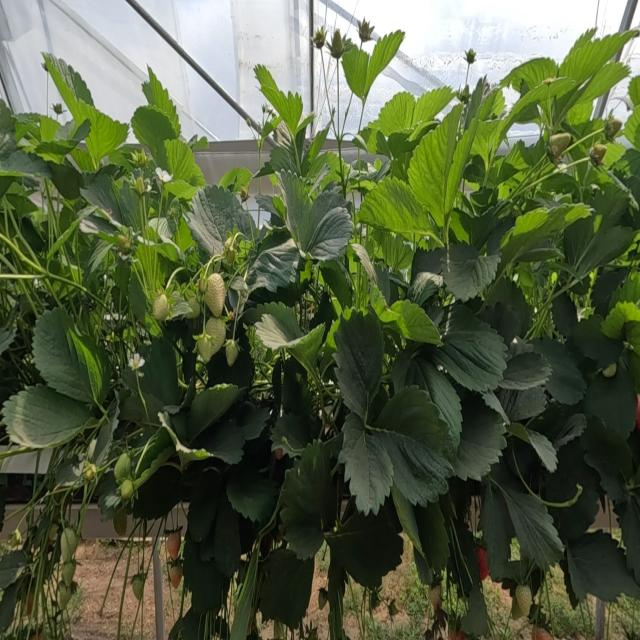Flowers: (129, 353, 145, 369), (156, 168, 172, 183)
Leaves: (375, 385, 454, 506), (424, 303, 507, 395), (392, 350, 462, 447), (408, 104, 462, 229), (280, 441, 337, 559), (499, 480, 563, 569), (33, 309, 92, 404), (2, 386, 90, 448), (340, 415, 393, 515), (567, 530, 640, 601), (335, 311, 383, 415), (360, 176, 435, 241), (188, 185, 257, 255), (453, 395, 506, 480), (260, 548, 314, 629), (581, 418, 632, 502), (255, 313, 324, 370), (183, 530, 229, 613), (534, 337, 586, 405), (445, 113, 479, 217), (584, 371, 636, 439), (441, 242, 500, 301), (480, 482, 514, 581), (140, 338, 181, 412), (131, 105, 177, 168), (261, 77, 310, 136), (245, 239, 299, 292), (569, 316, 623, 368), (227, 471, 278, 524), (278, 169, 311, 248), (188, 473, 224, 542), (307, 207, 353, 261), (364, 30, 405, 90), (498, 345, 551, 390), (194, 418, 245, 464), (148, 66, 181, 136), (213, 494, 241, 576), (81, 175, 122, 223), (164, 139, 204, 184), (271, 414, 312, 457), (310, 186, 347, 231), (521, 425, 557, 471), (342, 44, 369, 96), (461, 584, 487, 636), (0, 150, 50, 177), (164, 179, 198, 200), (254, 64, 277, 92)
Strawberries: (205, 273, 226, 317), (206, 317, 226, 356), (61, 527, 78, 562), (550, 132, 571, 159), (114, 452, 130, 484), (197, 333, 213, 363), (153, 294, 170, 321), (166, 531, 181, 559), (61, 559, 76, 587), (604, 116, 622, 139), (590, 143, 607, 167), (330, 30, 344, 59), (225, 340, 240, 366), (358, 18, 374, 42), (131, 573, 145, 600), (59, 580, 72, 609), (168, 562, 182, 587), (118, 479, 134, 500), (185, 296, 200, 318), (9, 525, 23, 548), (313, 27, 326, 49), (117, 234, 131, 254), (83, 463, 97, 482), (133, 149, 147, 166), (458, 85, 470, 104), (465, 48, 476, 66), (135, 175, 145, 194), (198, 277, 208, 295), (240, 186, 249, 201), (53, 103, 63, 115)
